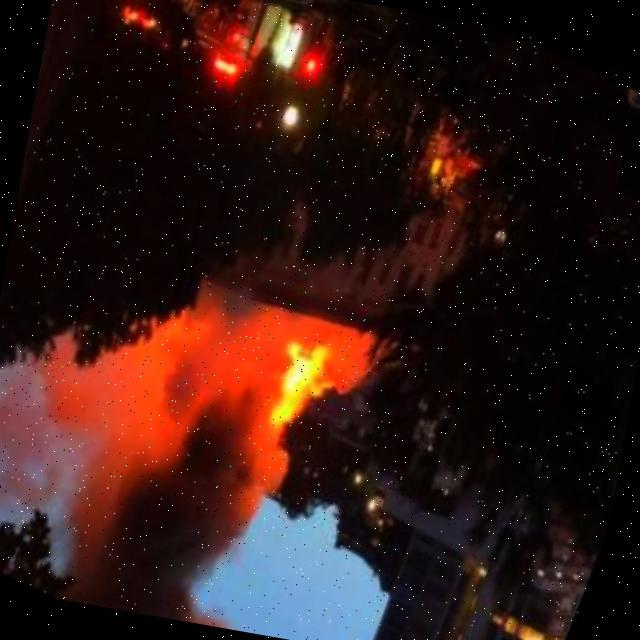fire: (256, 325, 372, 455), (418, 139, 485, 214)
